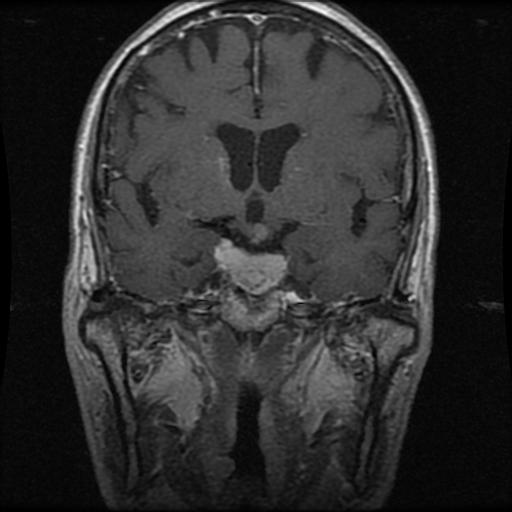Pituirity_tumour: (213, 237, 287, 294)
